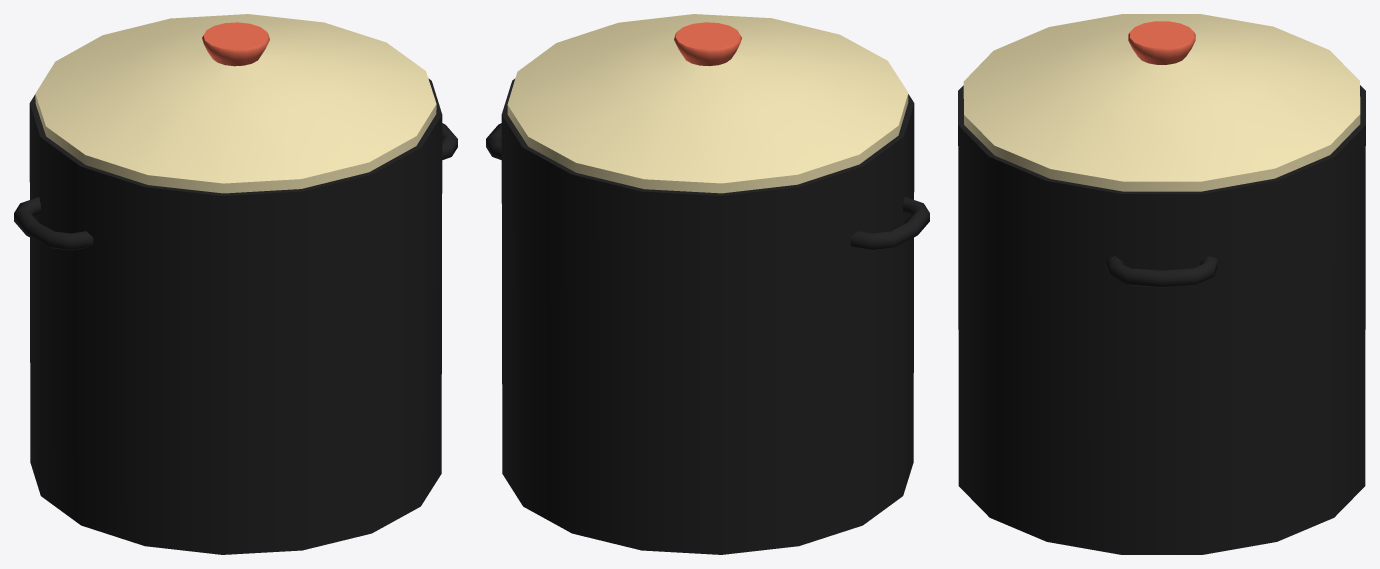
File: LP_pot2.glb
The picture shows the model from 3 angles, left to right: view 1: azimuth 30°, elevation 25°; view 2: azimuth 150°, elevation 25°; view 3: azimuth 270°, elevation 25°; orthographic projection.
Visible parts, largest first — view 1: LP_pot2.001, LP_pot2_lid.001; view 2: LP_pot2.001, LP_pot2_lid.001; view 3: LP_pot2.001, LP_pot2_lid.001.
Part boxes in pixels (<box>): LP_pot2.001: <box>14,78,457,554</box>; LP_pot2_lid.001: <box>35,14,436,193</box>; LP_pot2.001: <box>486,78,929,554</box>; LP_pot2_lid.001: <box>507,14,908,193</box>; LP_pot2.001: <box>958,85,1365,554</box>; LP_pot2_lid.001: <box>963,14,1360,191</box>.
Size of the model in its own units: 0.4347 by 0.4278 by 0.364.
Materials: 1 (1 with a texture image).
